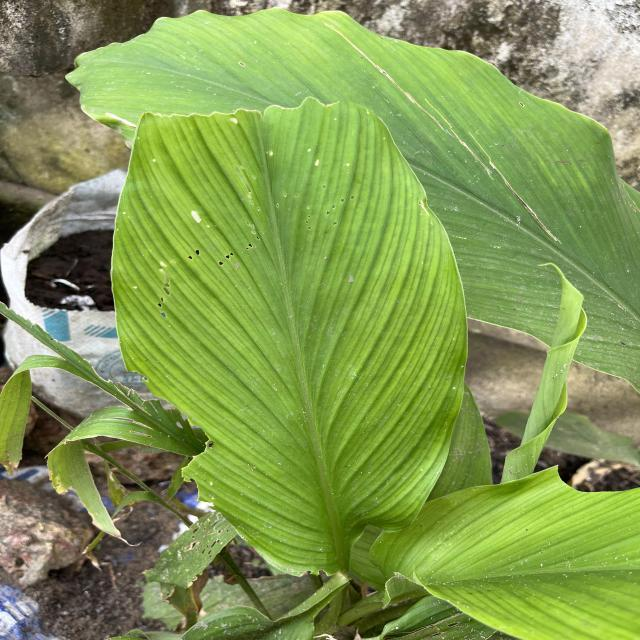Curcuma longa: (57, 4, 640, 397), (107, 90, 474, 582)
